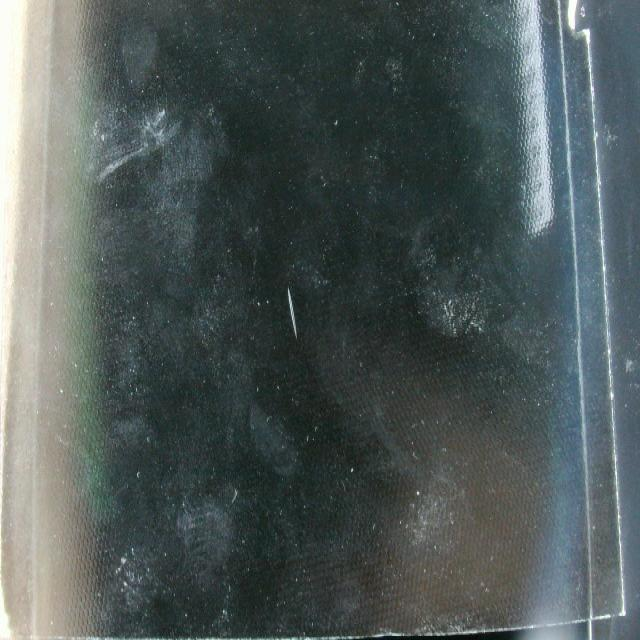edge_chip: (556, 2, 599, 50)
scratch: (278, 277, 308, 345)
